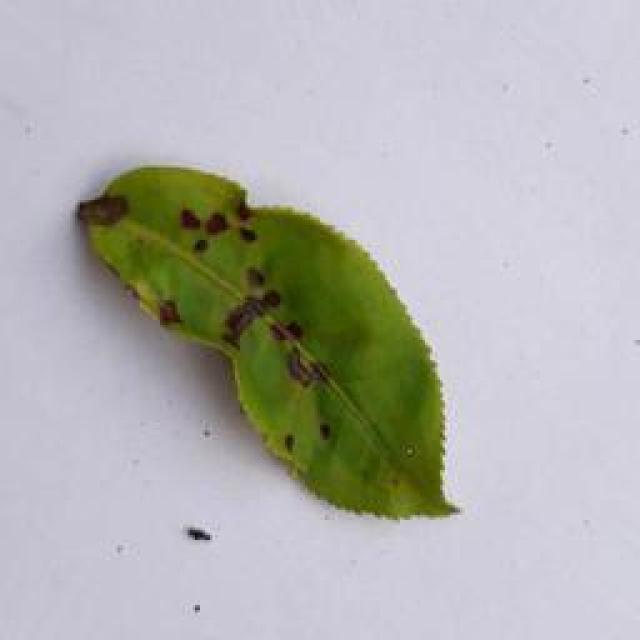Helopeltis: (66, 153, 466, 524)
